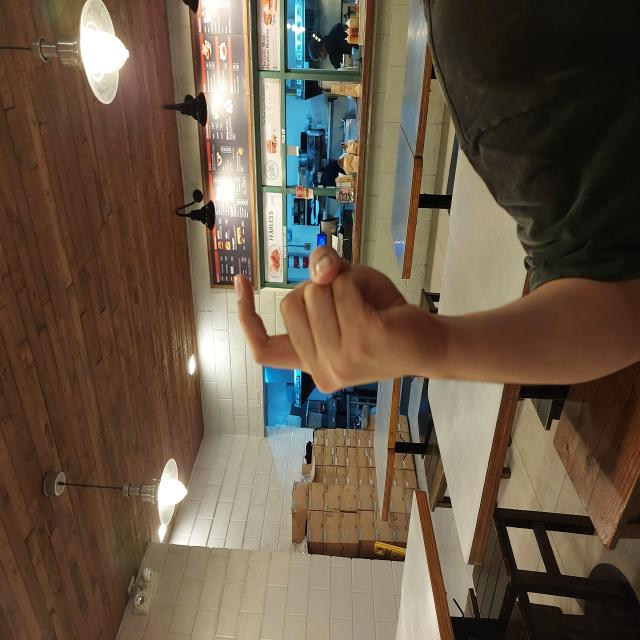X: (245, 232, 398, 446)
